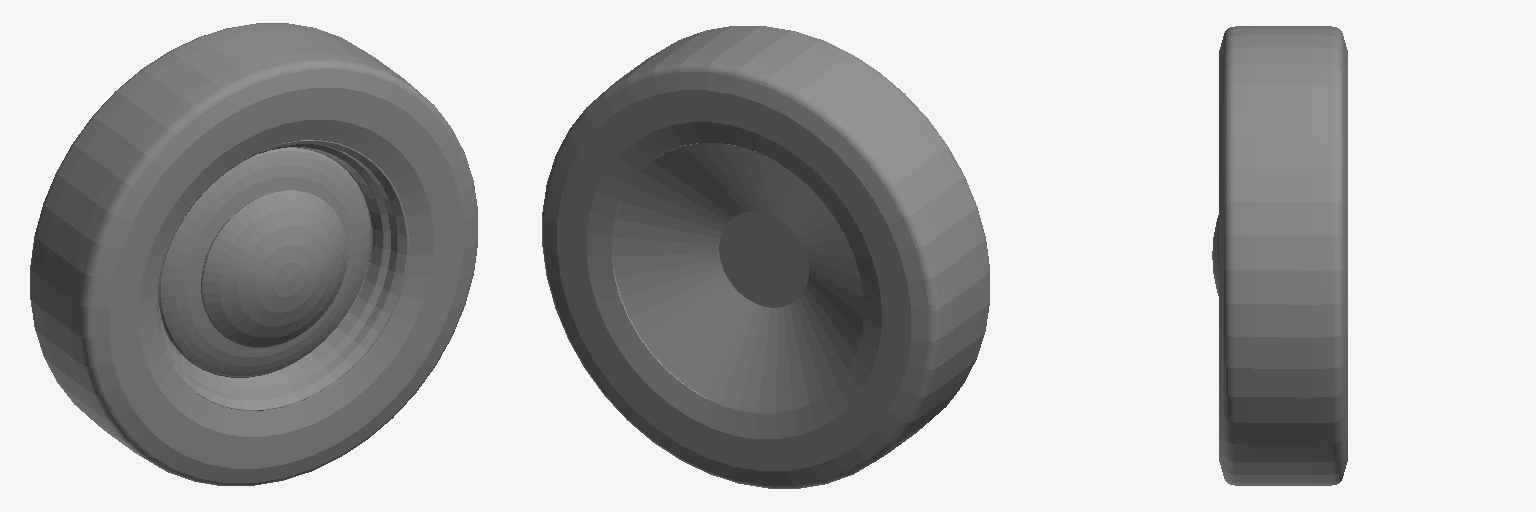
The model's file is VLlDIz.obj.
3 renders of one model, left to right at view 1: azimuth 30°, elevation 25°; view 2: azimuth 150°, elevation 25°; view 3: azimuth 270°, elevation 25°, orthographic.
Visible parts, largest first — view 1: LlantaDeIz; view 2: LlantaDeIz; view 3: LlantaDeIz.
Boxes of the visible parts, box(x1,y1,x2,y2) form: LlantaDeIz: box(30, 23, 477, 485); LlantaDeIz: box(542, 26, 989, 488); LlantaDeIz: box(1212, 26, 1347, 485).
Size of the model in its own units: 7.28 by 7.3 by 2.15.